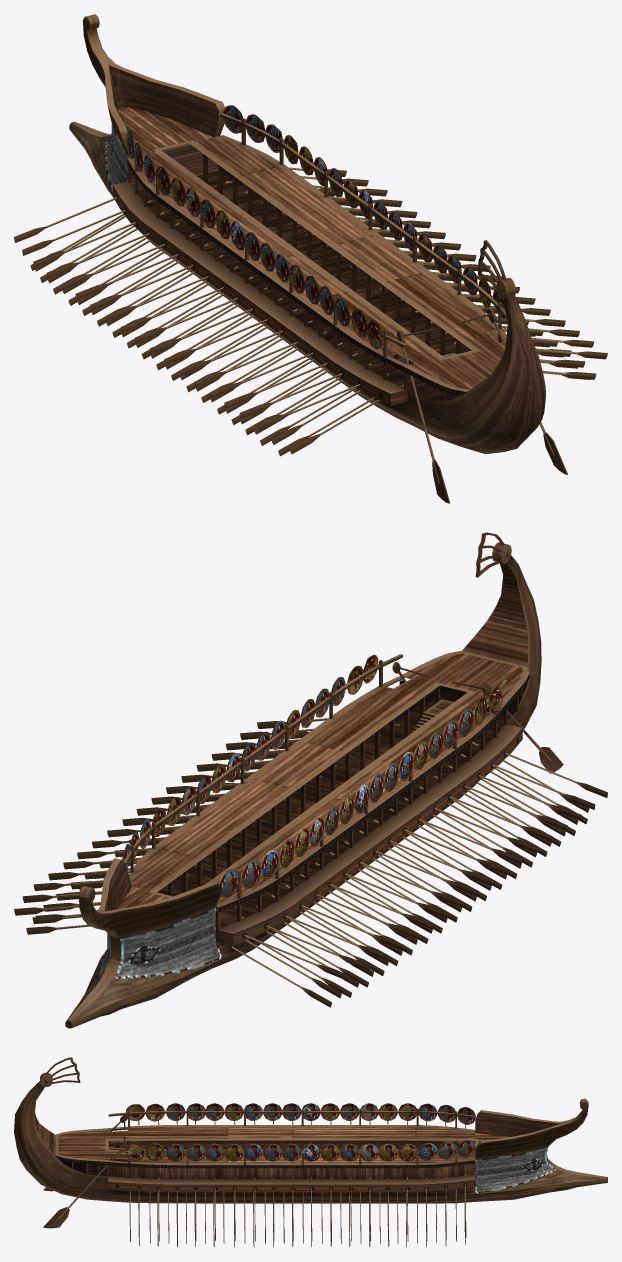
File: mace_ship_ram.glb
3 views of the same model, one above another, from view 1: azimuth 30°, elevation 25°; view 2: azimuth 150°, elevation 25°; view 3: azimuth 270°, elevation 25° (orthographic). The views are drawn at different scales.
Visible parts, largest first — view 1: mace_ship_ram_part0, mace_ship_ram_part109; view 2: mace_ship_ram_part0, mace_ship_ram_part109; view 3: mace_ship_ram_part0, mace_ship_ram_part109.
Boxes of the visible parts, x1,y1,x2,y2 form: mace_ship_ram_part0: [69, 14, 567, 503]; mace_ship_ram_part109: [126, 105, 504, 349]; mace_ship_ram_part0: [65, 532, 563, 1028]; mace_ship_ram_part109: [122, 654, 502, 897]; mace_ship_ram_part0: [14, 1057, 607, 1228]; mace_ship_ram_part109: [126, 1103, 475, 1161].
Size of the model in its own units: 3.14 by 1.97 by 7.
Materials: 3 (3 with a texture image).
